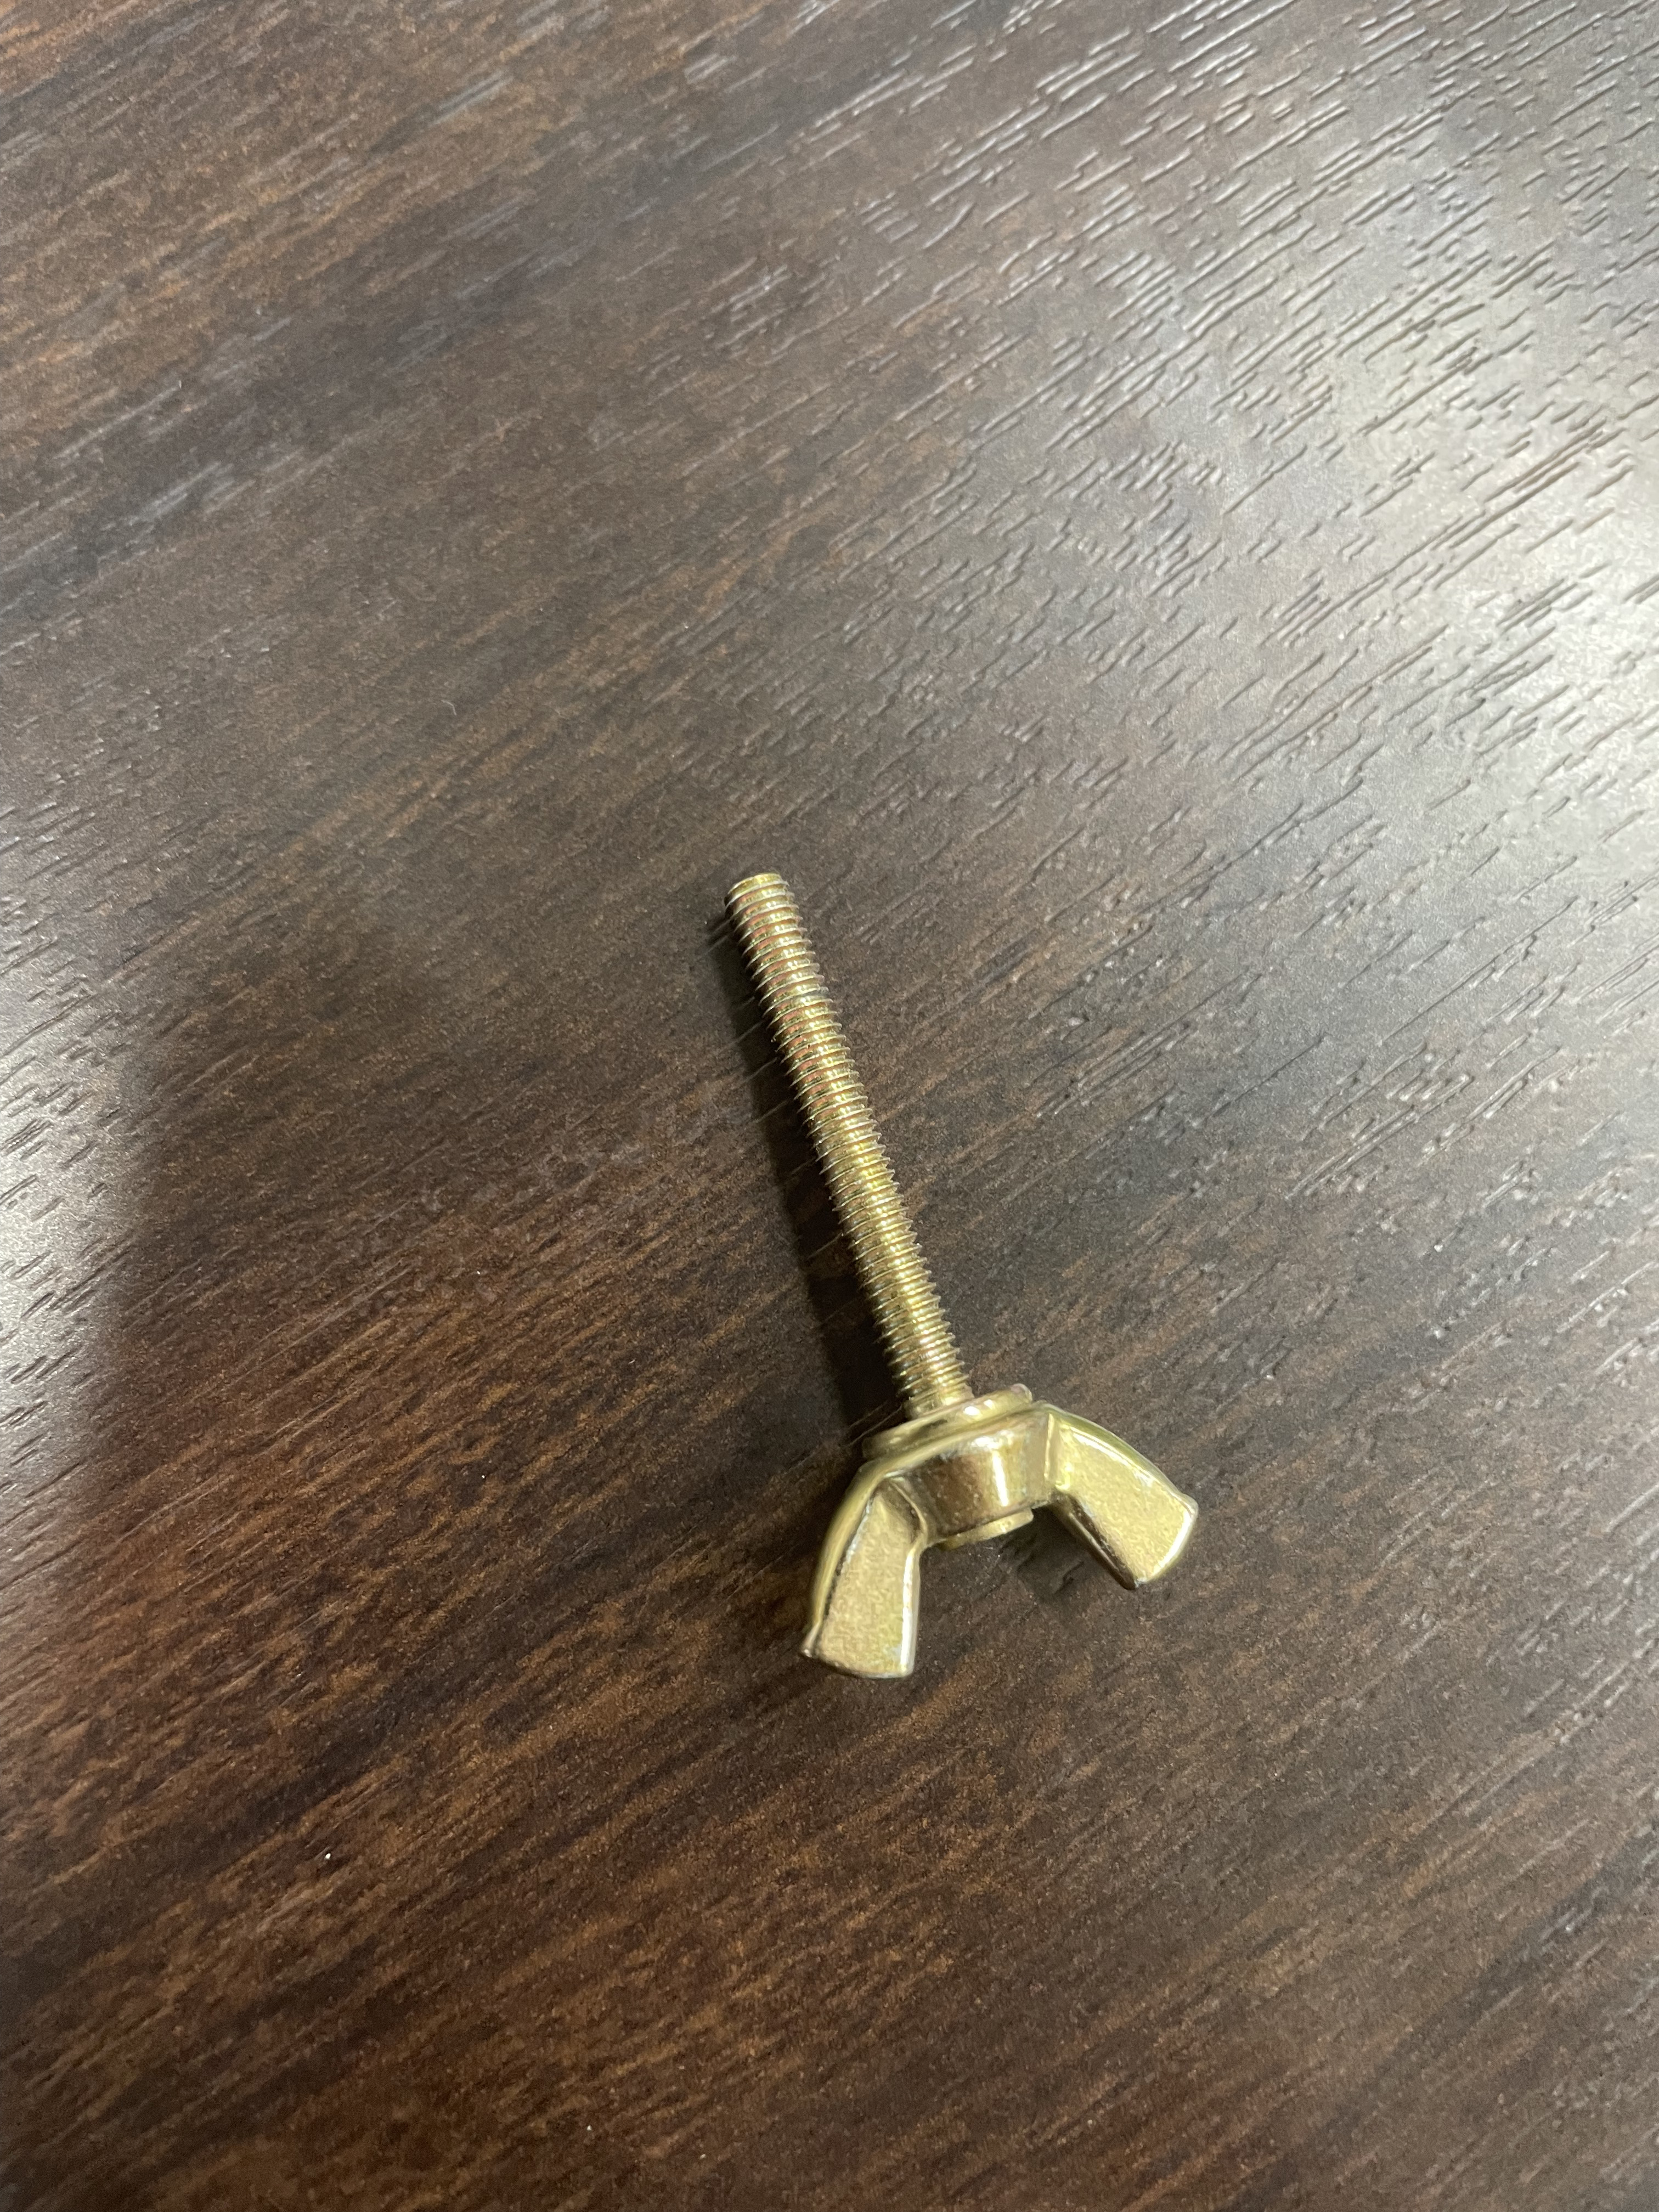screw0: (718, 865, 1202, 1688)
